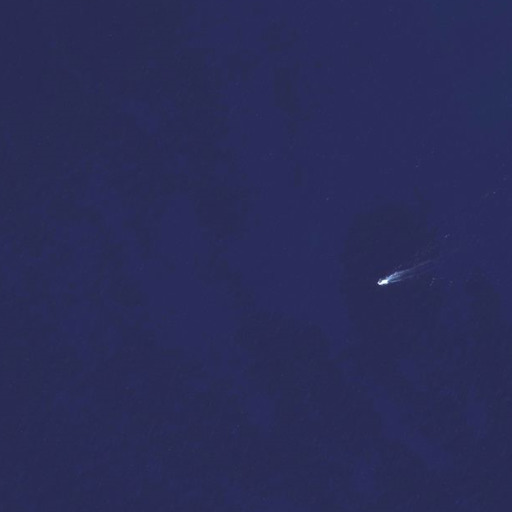ship: (374, 276, 393, 287)
